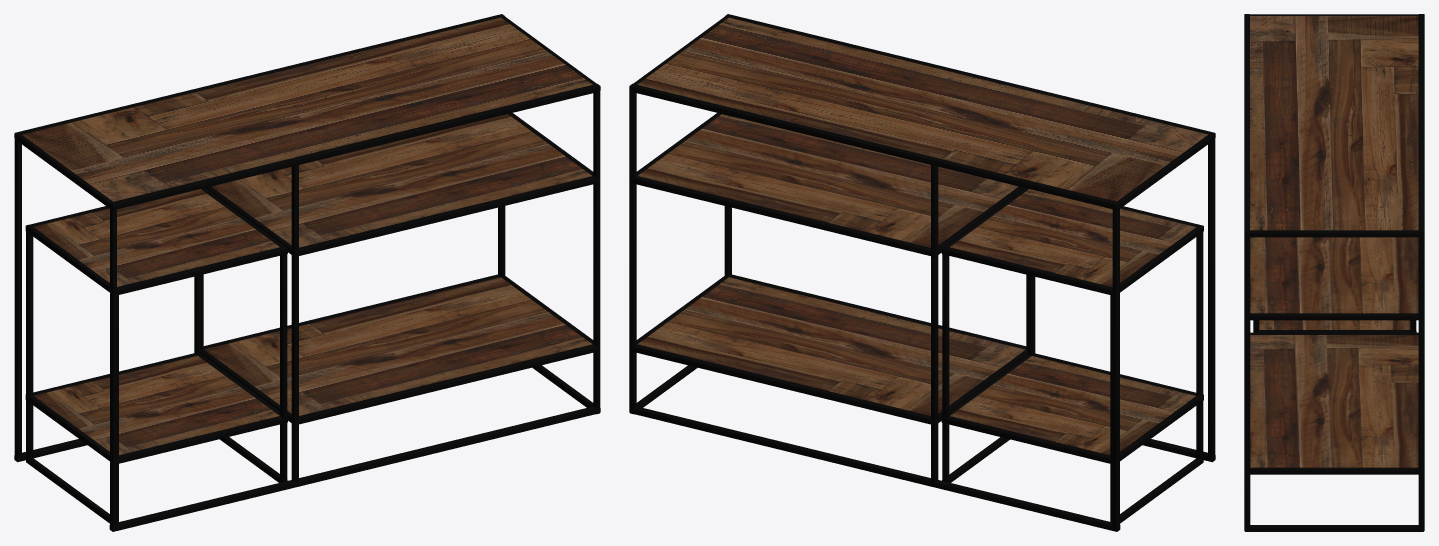
The picture shows the model from 3 angles, left to right: view 1: azimuth 30°, elevation 25°; view 2: azimuth 150°, elevation 25°; view 3: azimuth 270°, elevation 25°; orthographic projection. The views are drawn at different scales.
Parts seen in each view (by area): view 1: Cube_5, Cube_29, Cube, Cube_29 1, Cube_29 2, Cube_6, Cube_1_3, Cube_17, Cube_19, Cube_2_3, Cube_14, Cube_7 (+11 smaller); view 2: Cube_5, Cube_29, Cube, Cube_29 1, Cube_29 2, Cube_3_3, Cube_5_2, Cube_4, Cube_30_2, Cube_2_3, Cube_8, Cube_3_2 (+12 smaller); view 3: Cube_5, Cube_29, Cube, Cube_7, Cube_3_2, Cube_3_3, Cube_29 1, Cube_10, Cube_16, Cube_22, Cube_6, Cube_9 (+3 smaller).
Part boxes in pixels (x1,y1,x2,y2): Cube_5: (22,17,592,201); Cube_29: (204,277,592,415); Cube: (211,114,591,247); Cube_29 1: (33,355,279,455); Cube_29 2: (33,189,279,286); Cube_6: (110,83,600,209); Cube_1_3: (109,406,600,531); Cube_17: (295,344,599,424); Cube_19: (295,176,599,256); Cube_2_3: (14,139,21,456); Cube_14: (291,165,298,482); Cube_7: (593,91,600,408); Cube_5: (637,17,1207,201); Cube_29: (637,277,1025,415); Cube: (637,114,1018,247); Cube_29 1: (950,356,1195,455); Cube_29 2: (950,189,1195,286); Cube_3_3: (630,83,1119,209); Cube_5_2: (630,406,1120,531); Cube_4: (630,344,934,425); Cube_30_2: (630,176,934,256); Cube_2_3: (1112,204,1119,531); Cube_8: (1208,139,1215,461); Cube_3_2: (629,86,636,413); Cube_5: (1250,16,1418,230); Cube_29: (1250,335,1418,467); Cube: (1250,237,1418,313); Cube_7: (1244,232,1250,530); Cube_3_2: (1418,232,1424,530); Cube_3_3: (1418,14,1424,232); Cube_29 1: (1259,320,1410,329); Cube_10: (1245,230,1422,237); Cube_16: (1245,467,1422,474); Cube_22: (1249,313,1419,320); Cube_6: (1244,14,1249,235); Cube_9: (1245,525,1423,531).
Bounding box in the file's own units: 1.32 × 0.848 × 0.462.
4 materials, 3 textured.
